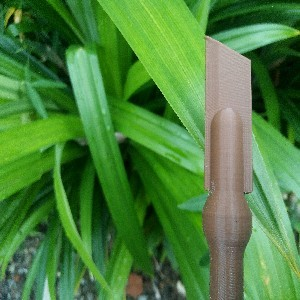cutter: (200, 34, 253, 300)
